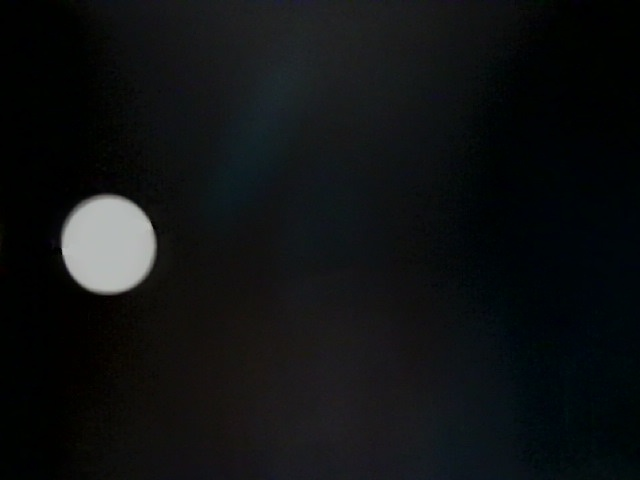KHSLJ: (1, 145, 549, 478)
